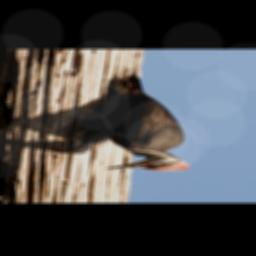Woodpecker: (70, 69, 192, 171)
